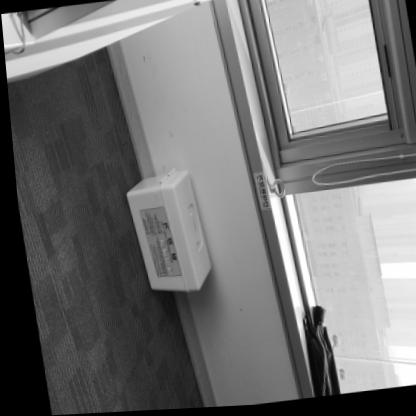DDL: (118, 167, 209, 300)
